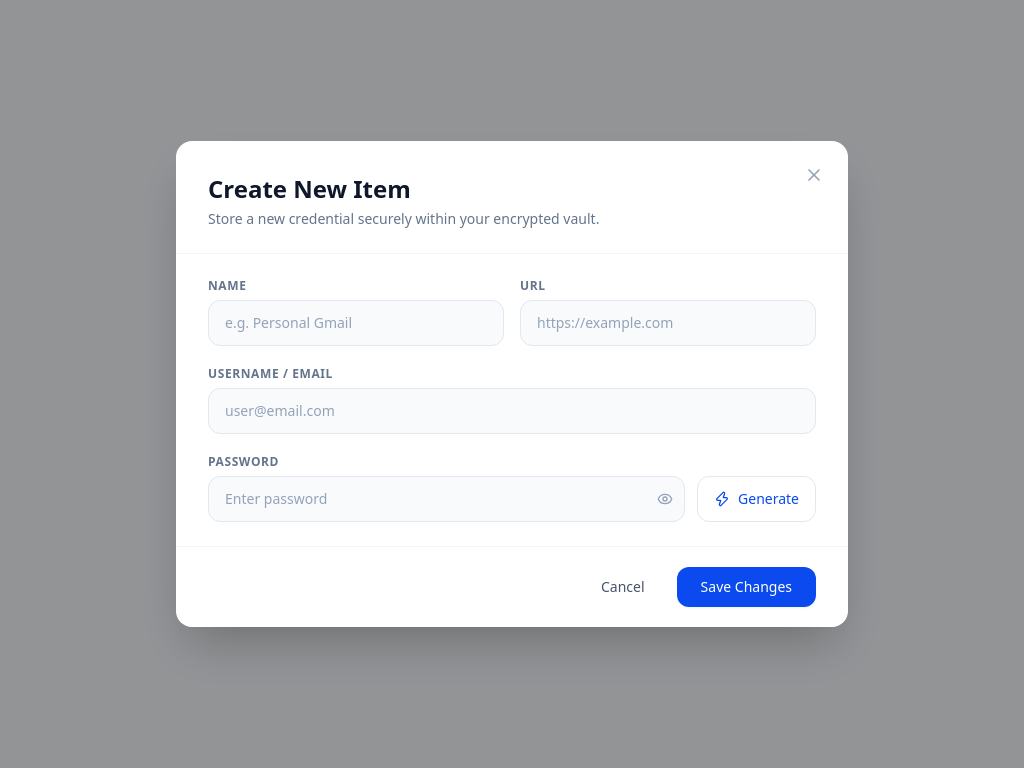
Test: VaultItem Form (TC-02) › validates URL correctly
Fill title
In the field labelled "Name": (356, 323) [208,300,504,346], type "Test Item"
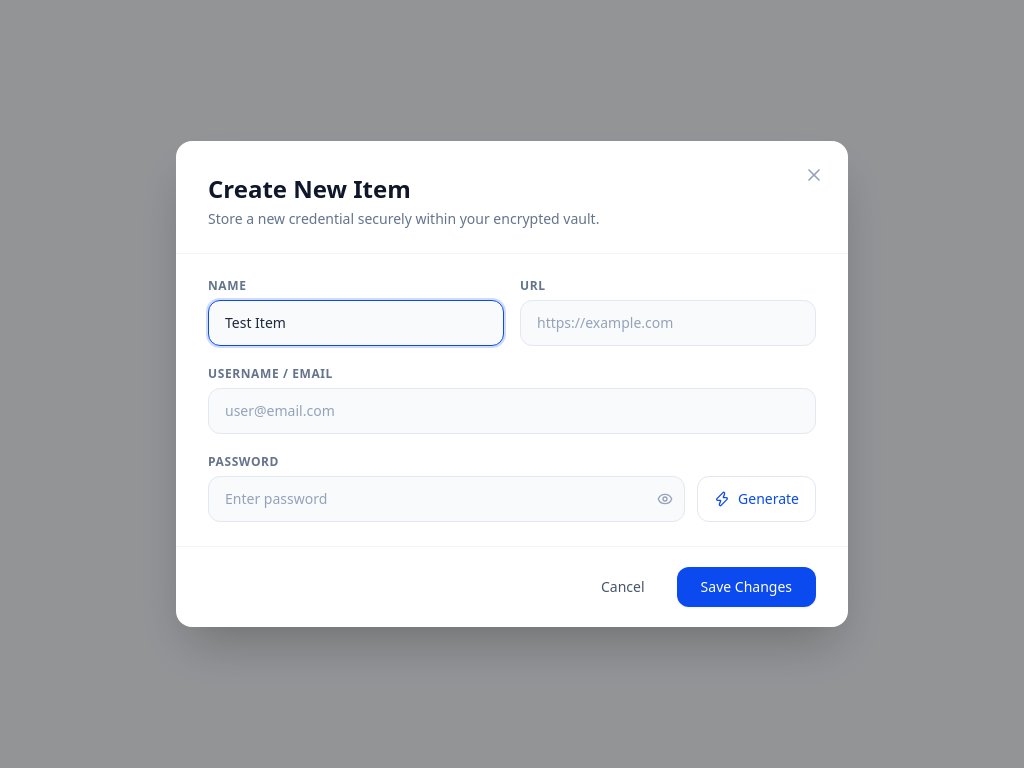
Fill invalid URL
In the field labelled "URL": (668, 323) [520,300,816,346], type "invalid-url"
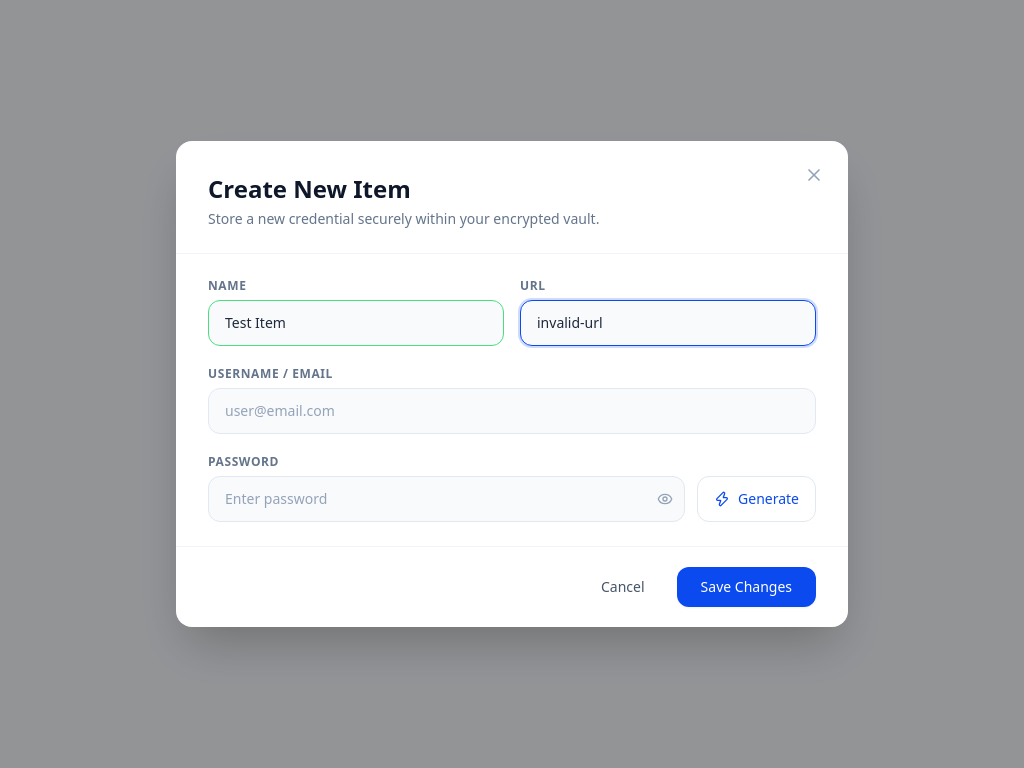
Click save
Click the button "Save Changes": (746, 587) [677,567,816,607]
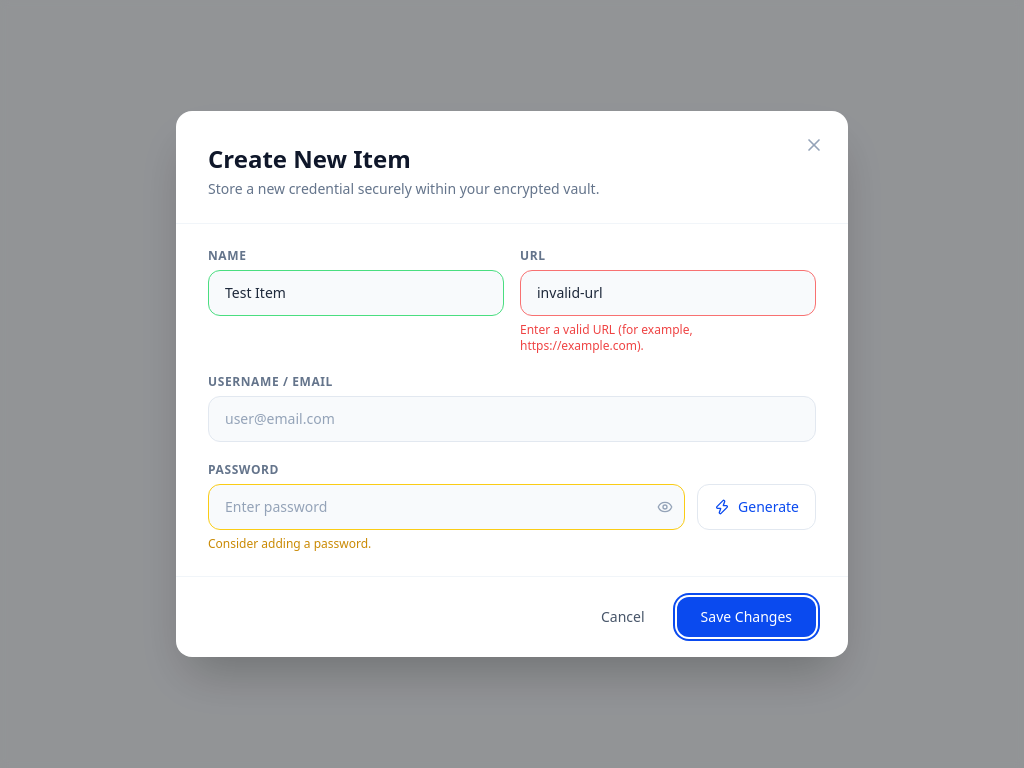
Expected: the text "Enter a valid URL (for example, https://example.com)." is shown, [520,321,693,354]
